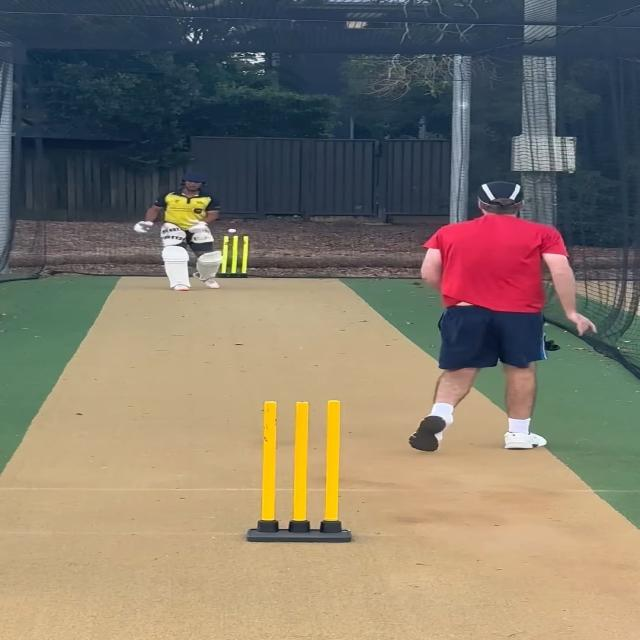ball: (226, 227, 238, 234)
stump: (244, 400, 351, 543), (220, 235, 250, 277)
